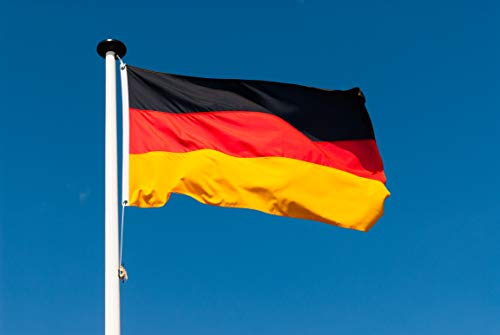Flag: (118, 61, 392, 238)
